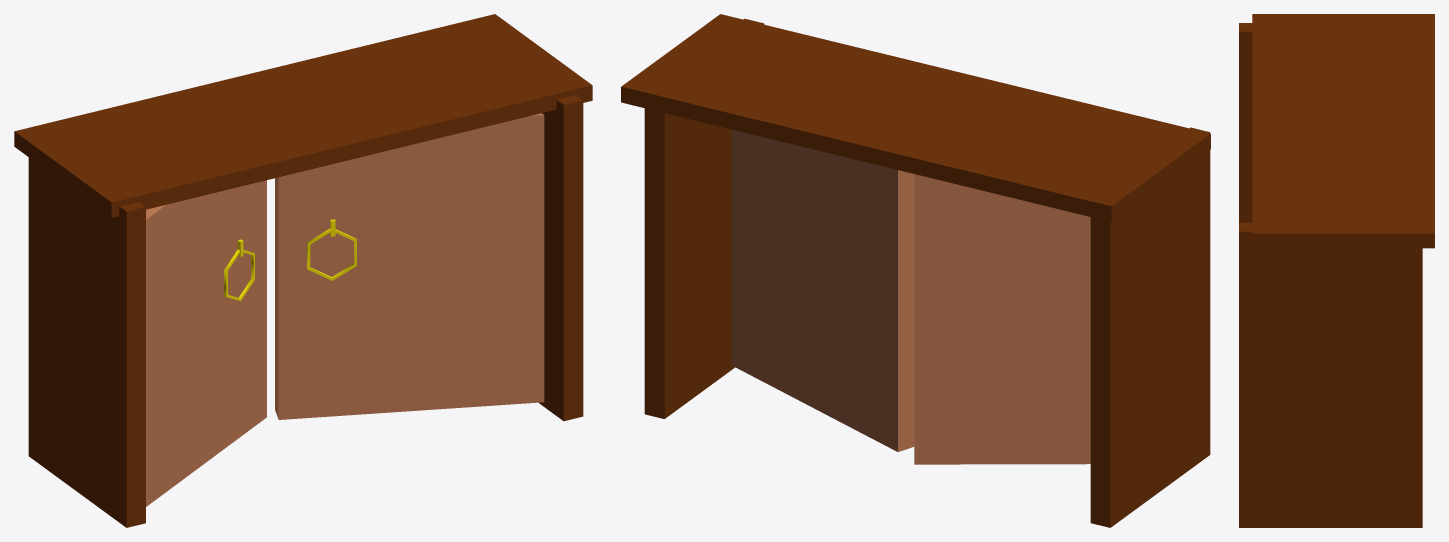
The model's file is PUERTA_FUERTE.FBX.
3 renders of one model, left to right at view 1: azimuth 30°, elevation 25°; view 2: azimuth 150°, elevation 25°; view 3: azimuth 270°, elevation 25°, orthographic. The views are drawn at different scales.
Visible parts, largest first — view 1: Box003, Box005_Part_3, Box005_Part_1, Box004_Part_3, Box005_Part_2, Box004_Part_1, Box004_Part_2, Box006; view 2: Box003, Box004_Part_3, Box005_Part_1, Box005_Part_3, Box004_Part_2, Box005_Part_2, Box004_Part_1; view 3: Box003.
Boxes of the visible parts, <box> form: Box003: <box>14,14,592,527</box>; Box005_Part_3: <box>388,157,544,412</box>; Box005_Part_1: <box>275,148,405,419</box>; Box004_Part_3: <box>151,180,266,431</box>; Box005_Part_2: <box>398,113,544,233</box>; Box004_Part_1: <box>146,195,204,436</box>; Box004_Part_2: <box>146,395,266,506</box>; Box006: <box>307,219,356,280</box>; Box003: <box>621,14,1210,527</box>; Box004_Part_3: <box>914,174,1090,439</box>; Box005_Part_1: <box>812,150,914,451</box>; Box005_Part_3: <box>731,154,823,413</box>; Box004_Part_2: <box>914,401,1090,464</box>; Box005_Part_2: <box>731,129,814,190</box>; Box004_Part_1: <box>1044,206,1090,288</box>; Box003: <box>1239,14,1434,527</box>.
Bounding box in the file's own units: 59.56 × 38.12 × 22.43.
